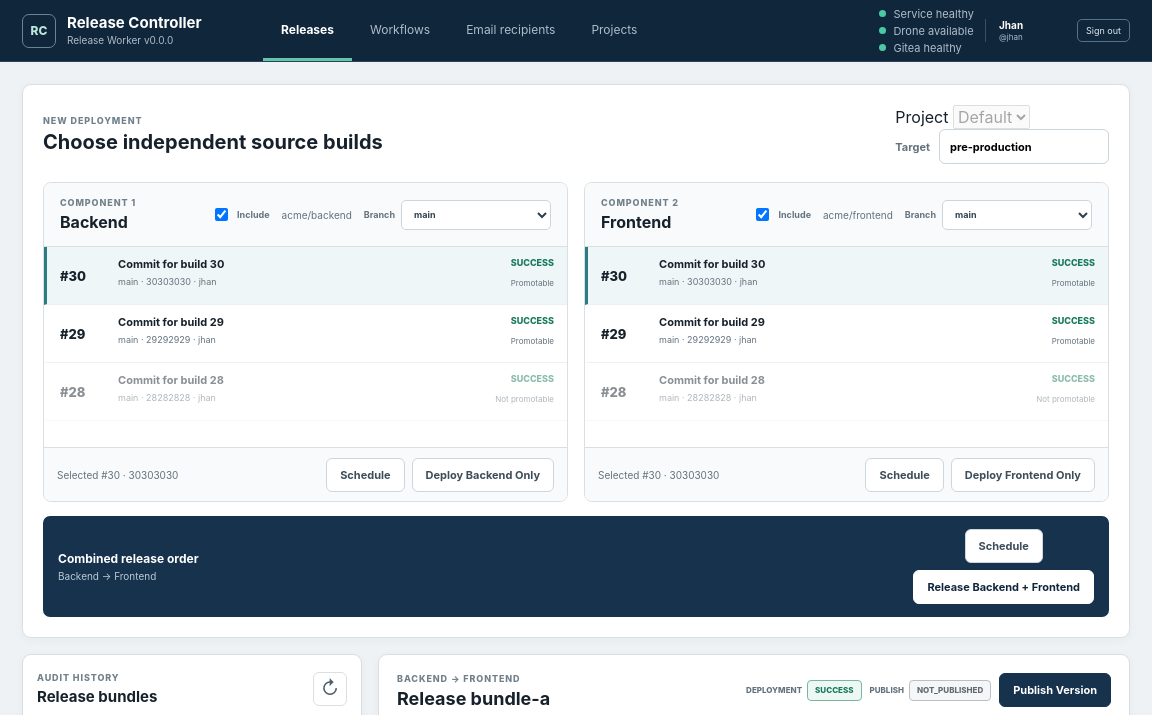
Test: 發布動作 › 合併發布會把兩邊的 build 編號與 target 送進 multipart payload
The width and height of the screenshot is (1152, 715).
Expected: the button with class "build-row" below "acme/frontend" is shown, [585,247,1108,305]
Click the button with id "release-both". click: [1004, 587]
box: [913,570,1094,604]
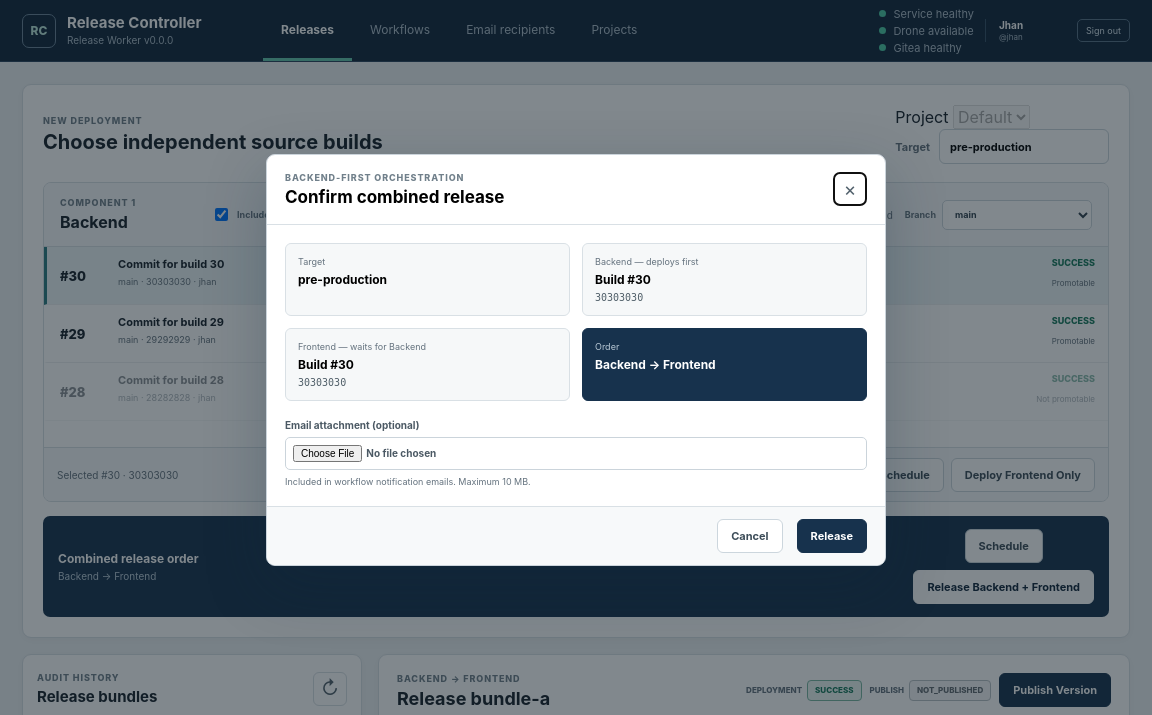
Expected: the element with id "confirmation-summary" shows "Build #30", [595,272,651,287]
Submit the form with id "confirmation-form", box [267,155,885,565]
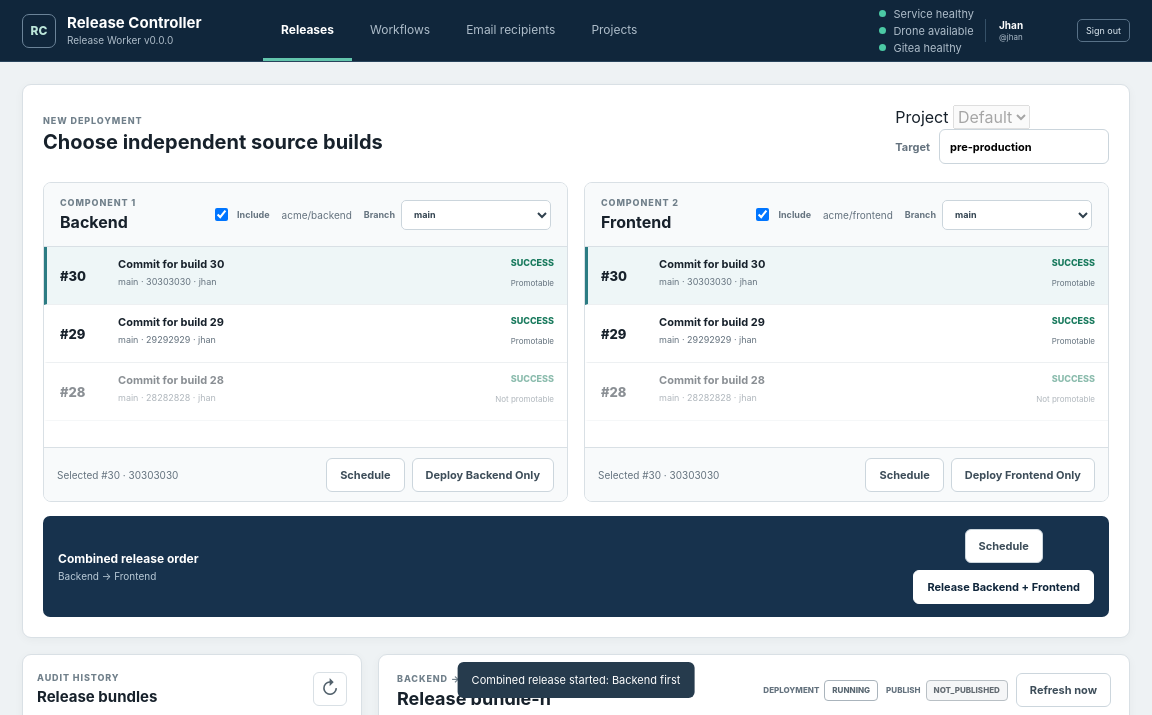
Expected: the element with id "release-detail" shows "Release bundle-n", [397,688,551,709]
Expected: the message with id "toast" shows "Backend first", [472,673,680,687]
